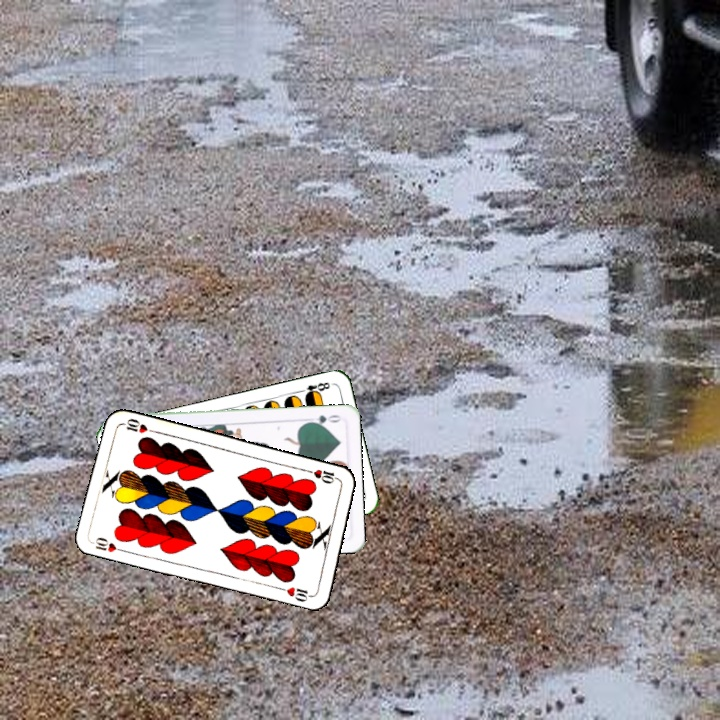E8: (294, 378, 332, 400)
GO: (303, 411, 343, 428)
H10: (89, 533, 129, 555), (303, 465, 343, 486)
